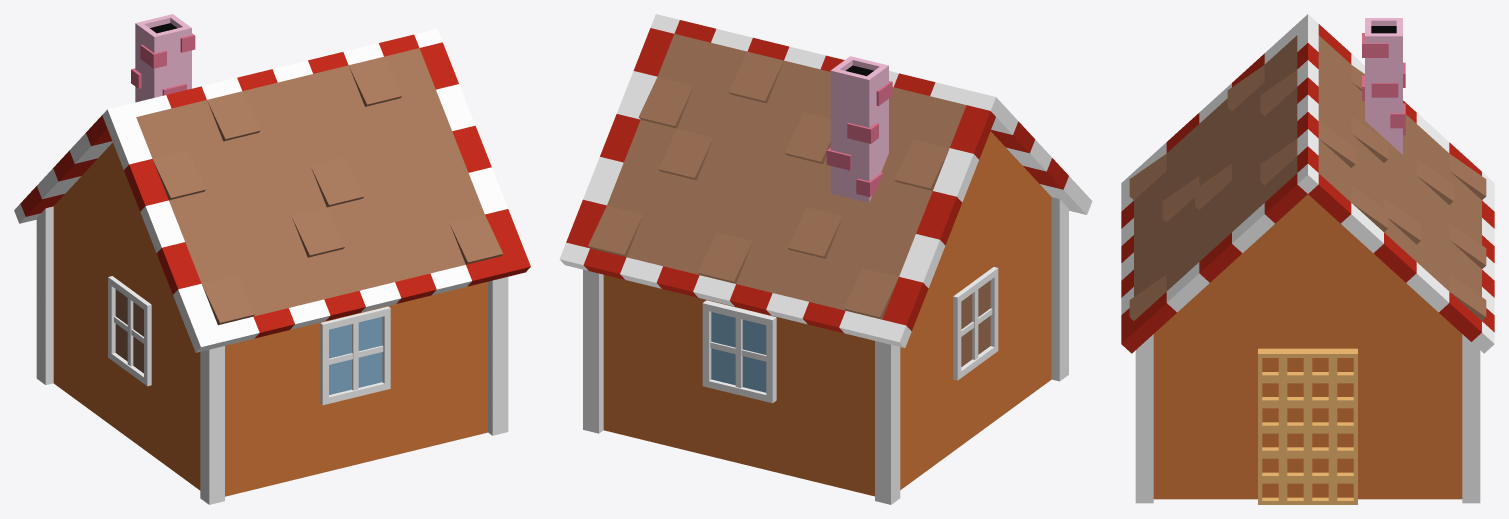
The model's file is CandyHouse_02.fbx.
3 views of the same model, side by side, from view 1: azimuth 30°, elevation 25°; view 2: azimuth 150°, elevation 25°; view 3: azimuth 270°, elevation 25° (orthographic). The views are drawn at different scales.
Visible parts, largest first — view 1: CandyHouse_02; view 2: CandyHouse_02; view 3: CandyHouse_02.
Part boxes in pixels (bbox=[...]): CandyHouse_02: bbox=[14, 14, 530, 504]; CandyHouse_02: bbox=[559, 14, 1092, 504]; CandyHouse_02: bbox=[1121, 14, 1494, 504].
Bounding box in the file's own units: 0.6333 × 0.6771 × 0.6216.
